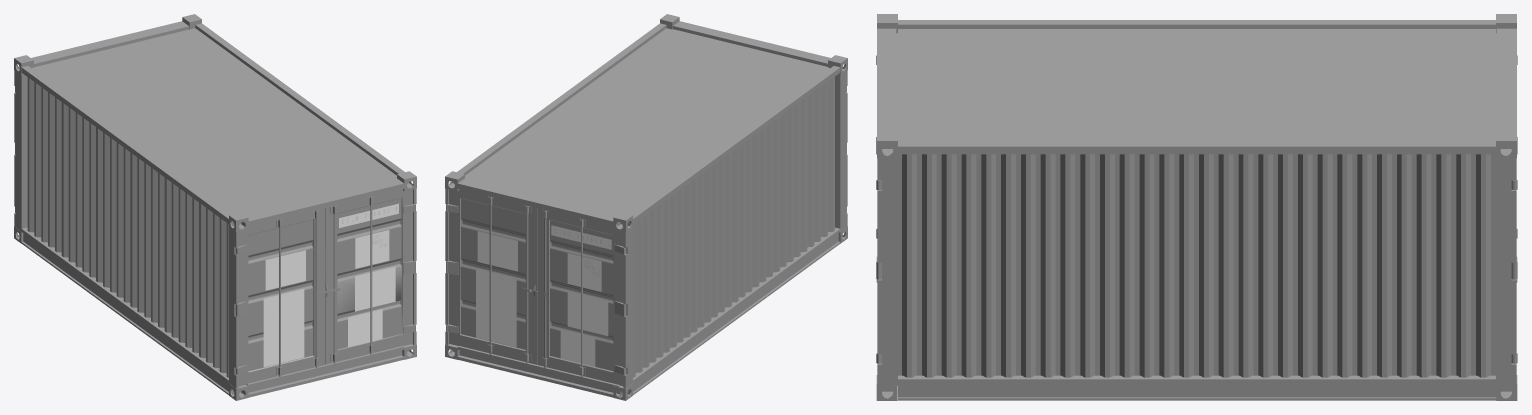
The model's file is MetalContainer01.fbx.
3 renders of one model, left to right at view 1: azimuth 30°, elevation 25°; view 2: azimuth 150°, elevation 25°; view 3: azimuth 270°, elevation 25°, orthographic. The views are drawn at different scales.
Parts seen in each view (by area): view 1: MetalContainer01_LOD0, decal2, decal1, decal4, decal3; view 2: MetalContainer01_LOD0, decal2, decal1, decal4, decal3; view 3: MetalContainer01_LOD0.
Part boxes in pixels (bbox=[...]): MetalContainer01_LOD0: bbox=[14, 14, 416, 400]; decal2: bbox=[263, 250, 305, 367]; decal1: bbox=[355, 230, 395, 311]; decal4: bbox=[348, 309, 382, 347]; decal3: bbox=[339, 203, 398, 227]; MetalContainer01_LOD0: bbox=[445, 14, 847, 400]; decal2: bbox=[476, 231, 517, 347]; decal1: bbox=[567, 253, 608, 336]; decal4: bbox=[560, 329, 595, 366]; decal3: bbox=[551, 225, 611, 249]; MetalContainer01_LOD0: bbox=[876, 14, 1517, 400].
Size of what is drawn, in the model's own units: 18.94 by 18.04 by 40.36.
Materials: 2 (1 with a texture image).
